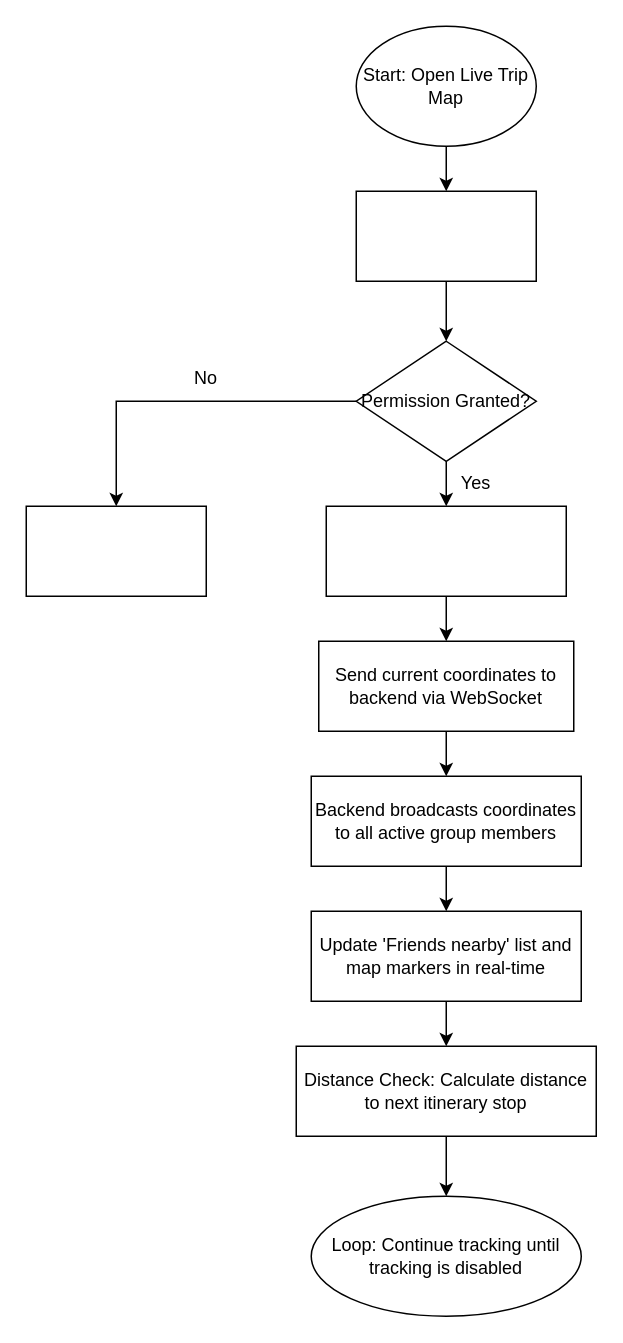
This 623x1343 diagram has some shape labels left out. The centre of each missing label's shape, as x and y in pixels:
App requests device GPS permissions: the point at 445,235
Show static itinerary markers only: the point at 115,550
Start continuous GPS polling: the point at 445,550
